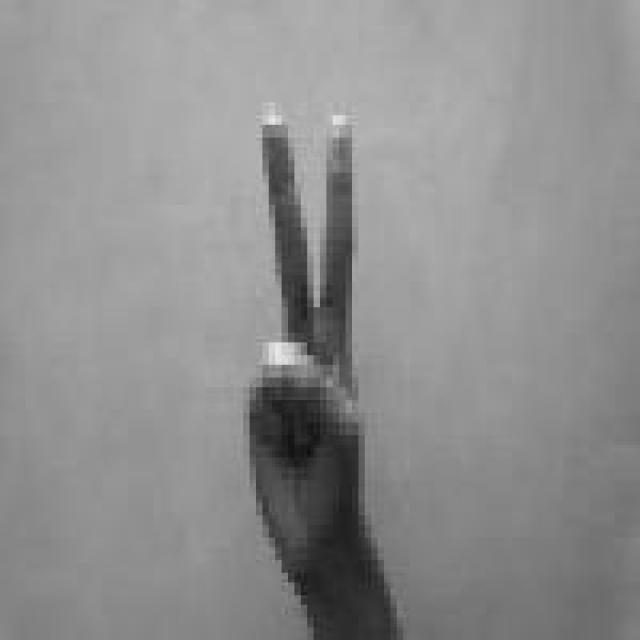V: (234, 101, 380, 587)
